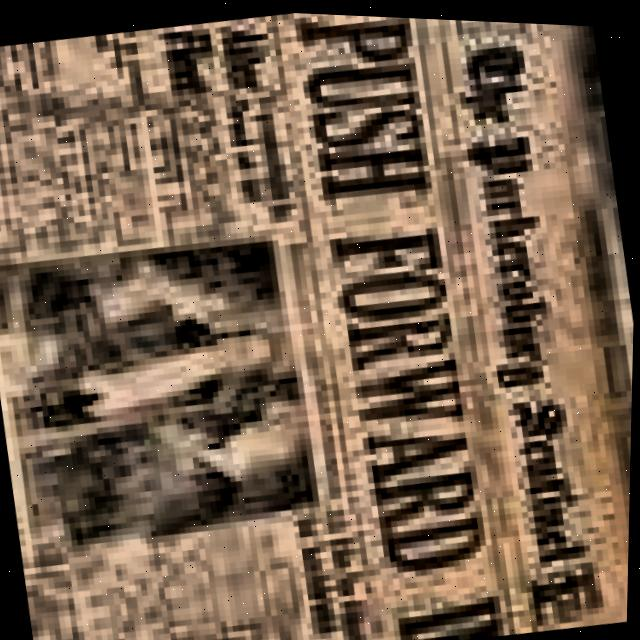paper: (0, 10, 634, 640)
